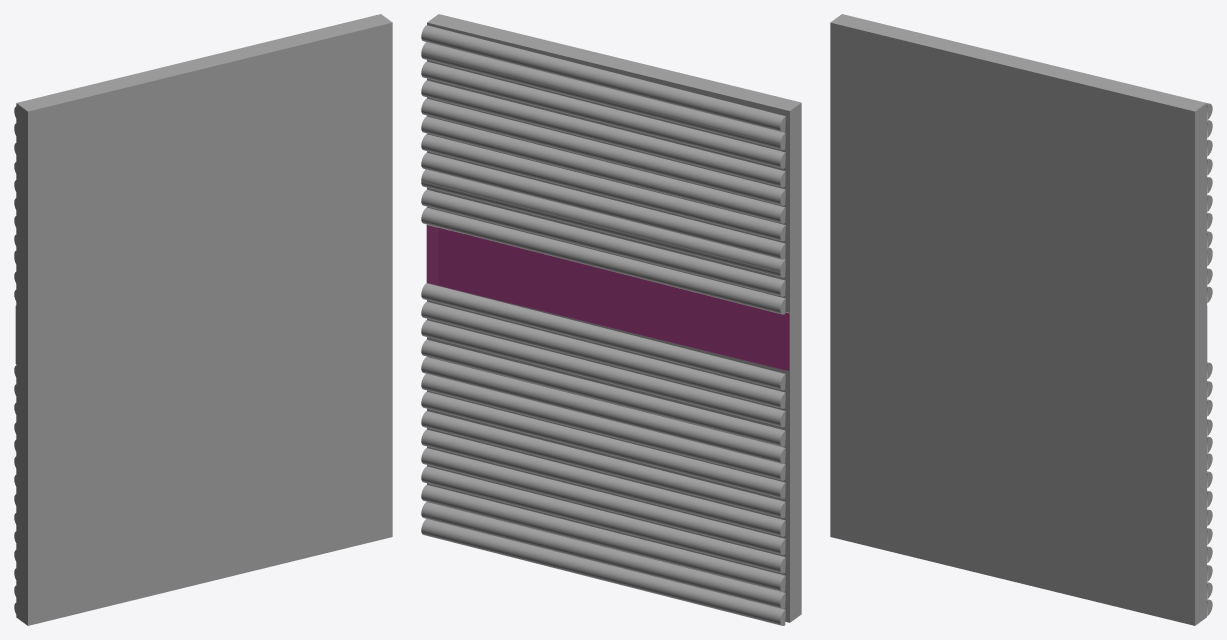
The model's file is ShopDoor.fbx.
3 views of the same model, side by side, from view 1: azimuth 30°, elevation 25°; view 2: azimuth 150°, elevation 25°; view 3: azimuth 330°, elevation 25° (orthographic).
Visible parts, largest first — view 1: ShopDoor; view 2: ShopDoor; view 3: ShopDoor.
Boxes of the visible parts, x1=… form: ShopDoor: x1=14, y1=14, x2=392, y2=625; ShopDoor: x1=421, y1=14, x2=801, y2=625; ShopDoor: x1=830, y1=14, x2=1212, y2=625.
Bounding box in the file's own units: 5.5 × 7.44 × 0.4598.
